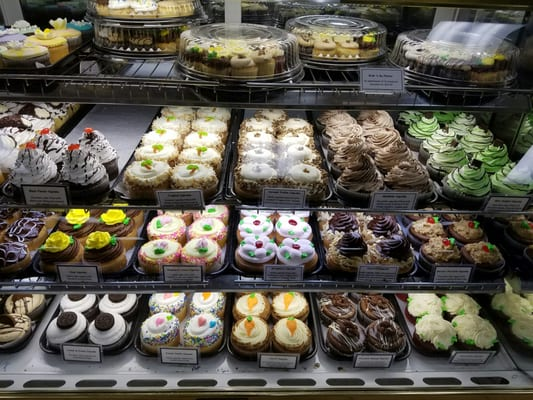salad: (40, 310, 87, 352), (139, 311, 181, 355), (87, 311, 129, 349), (138, 239, 182, 275), (231, 315, 269, 353), (273, 317, 312, 353), (146, 213, 188, 246), (0, 241, 32, 277), (272, 291, 309, 321), (322, 295, 357, 322)
sushi: (178, 23, 288, 78)
